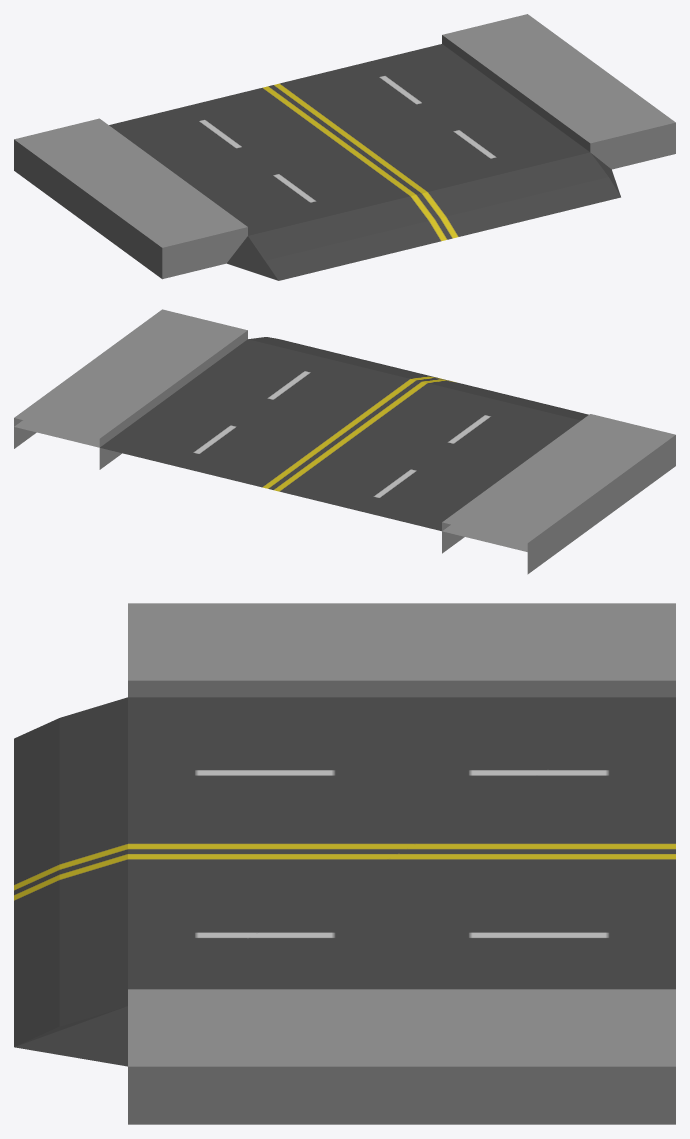
3 renders of one model, top to bottom at view 1: azimuth 30°, elevation 25°; view 2: azimuth 150°, elevation 25°; view 3: azimuth 270°, elevation 25°, orthographic. The views are drawn at different scales.
Parts seen in each view (by area): view 1: Model_0, Skybox; view 2: Model_0, Skybox; view 3: Model_0, Skybox.
Boxes of the visible parts, bbox=[...] form: Model_0: bbox=[14, 14, 675, 280]; Skybox: bbox=[248, 53, 620, 280]; Model_0: bbox=[14, 309, 675, 574]; Skybox: bbox=[14, 337, 588, 551]; Model_0: bbox=[14, 603, 675, 1124]; Skybox: bbox=[14, 697, 127, 1046].
Size of what is drawn, in the model's own units: 2400 by 140 by 1450.
